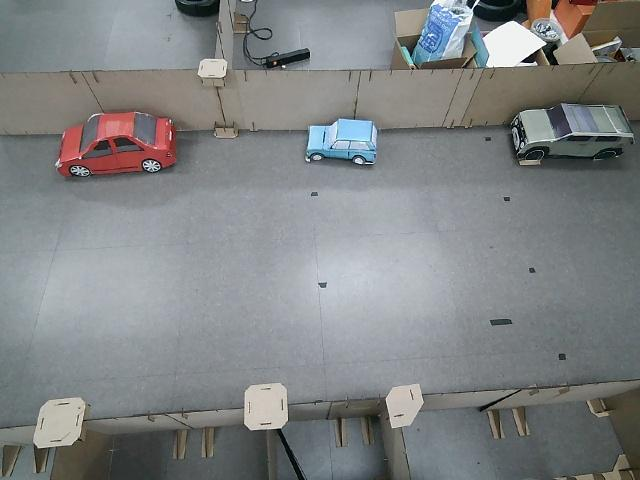car: (51, 107, 179, 182), (506, 103, 636, 169), (302, 116, 382, 169)
